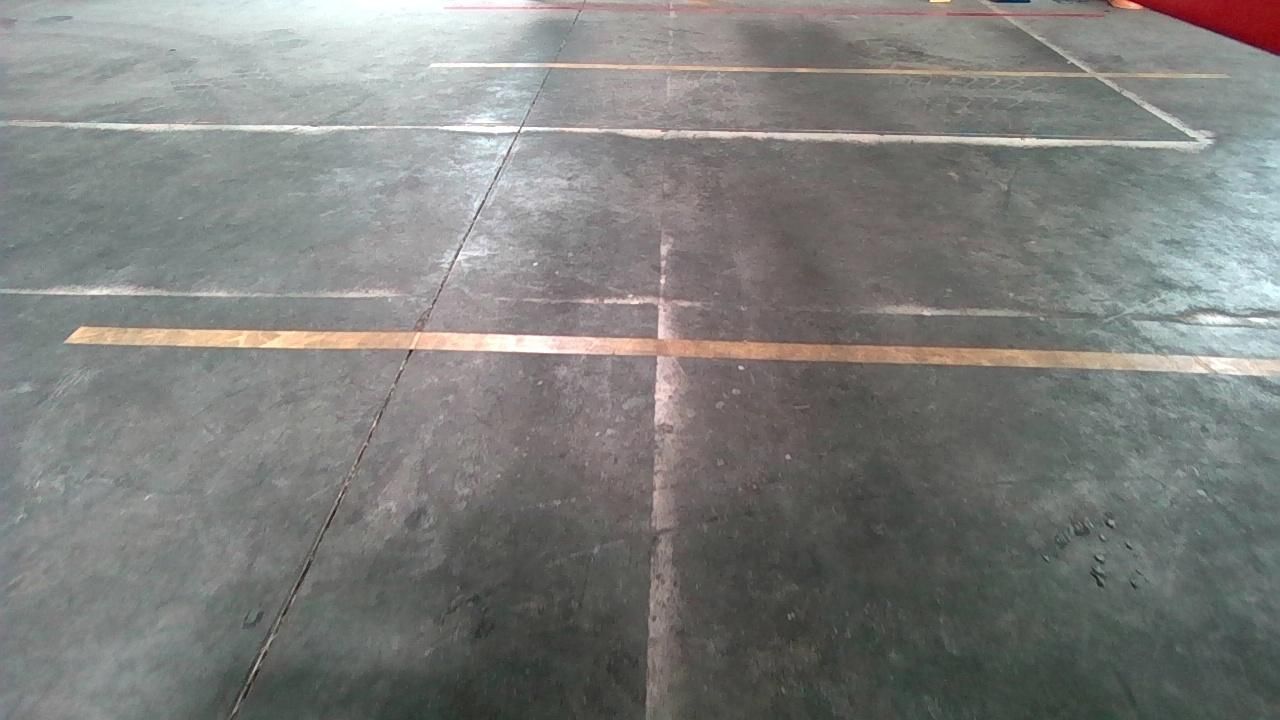yellow_line: (67, 326, 1280, 376)
